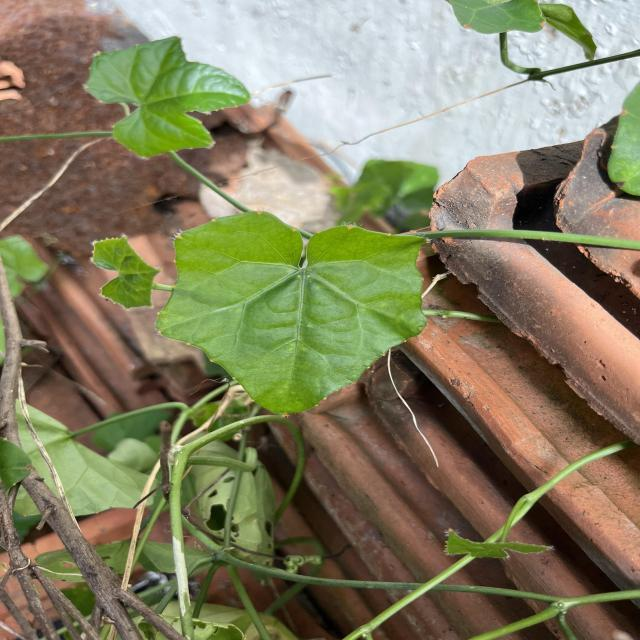Coccinia grandis: (152, 208, 432, 418)
